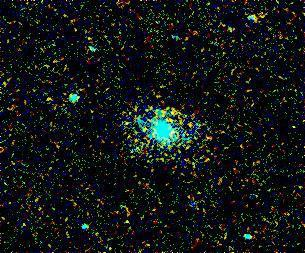star: (278, 110, 305, 140)
